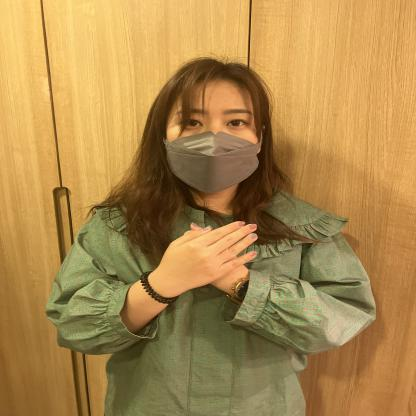Grieve: (97, 168, 362, 376)
